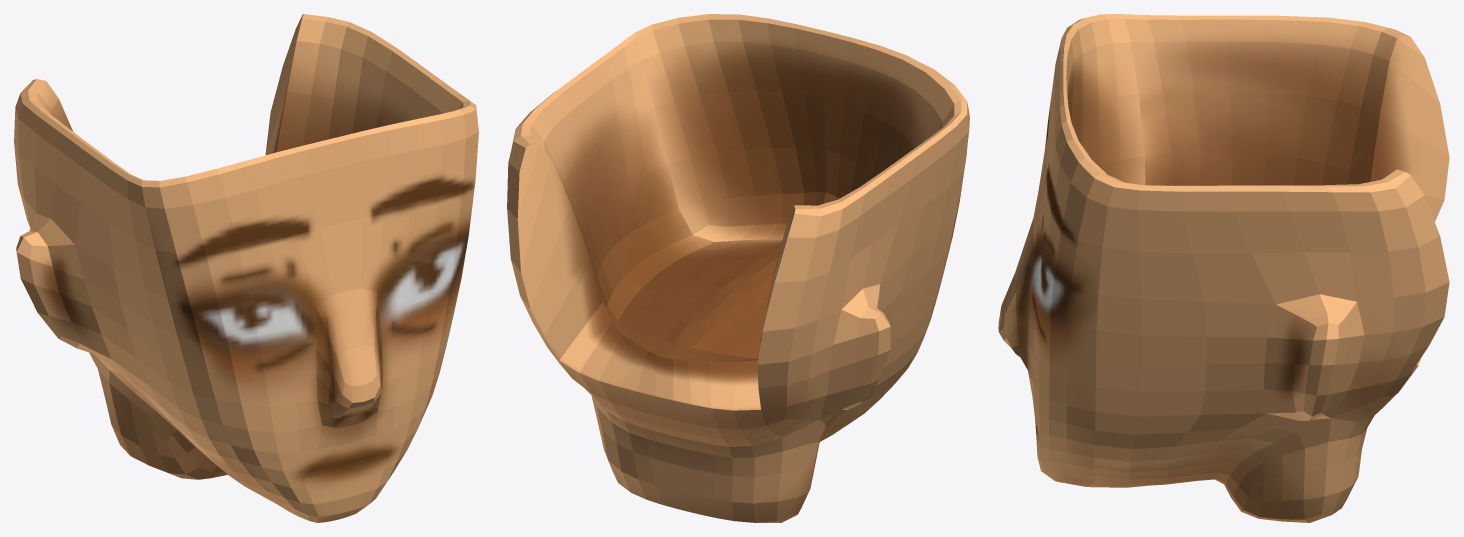
Rendered from cabeza.player.fbx.
3 views of the same model, side by side, from view 1: azimuth 30°, elevation 25°; view 2: azimuth 150°, elevation 25°; view 3: azimuth 270°, elevation 25° (orthographic). The views are drawn at different scales.
Visible parts, largest first — view 1: Cabeza; view 2: Cabeza; view 3: Cabeza.
Boxes of the visible parts, x1,y1,x2,y2 form: Cabeza: (14,14,478,522); Cabeza: (507,14,969,522); Cabeza: (998,14,1449,522).
Size of the model in its own units: 381 by 377 by 370.
Materials: 1 (1 with a texture image).
